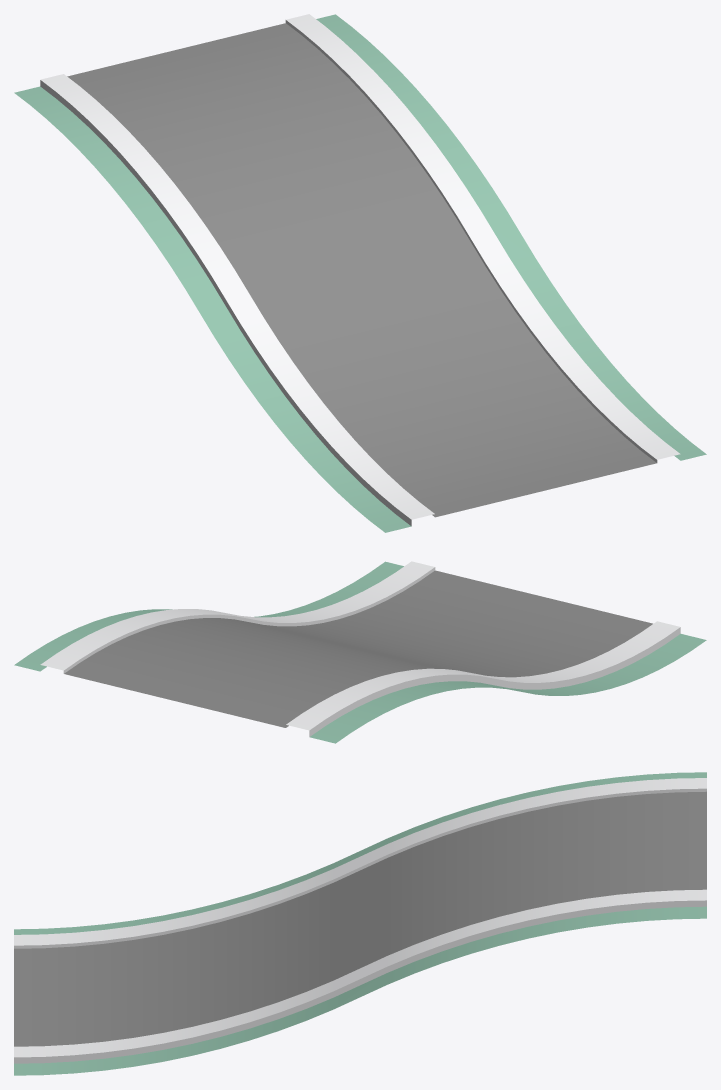
File: roadRampLongCurved.glb
3 views of the same model, one above another, from view 1: azimuth 30°, elevation 25°; view 2: azimuth 150°, elevation 25°; view 3: azimuth 270°, elevation 25° (orthographic). The views are drawn at different scales.
Visible parts, largest first — view 1: roadRampLongCurved(Clone); view 2: roadRampLongCurved(Clone); view 3: roadRampLongCurved(Clone).
Boxes of the visible parts, left/top/right/bottom form: roadRampLongCurved(Clone): left=14, top=14, right=706, bottom=532; roadRampLongCurved(Clone): left=14, top=561, right=706, bottom=743; roadRampLongCurved(Clone): left=14, top=772, right=706, bottom=1075.
Bounding box in the file's own units: 1 × 0.52 × 2.
